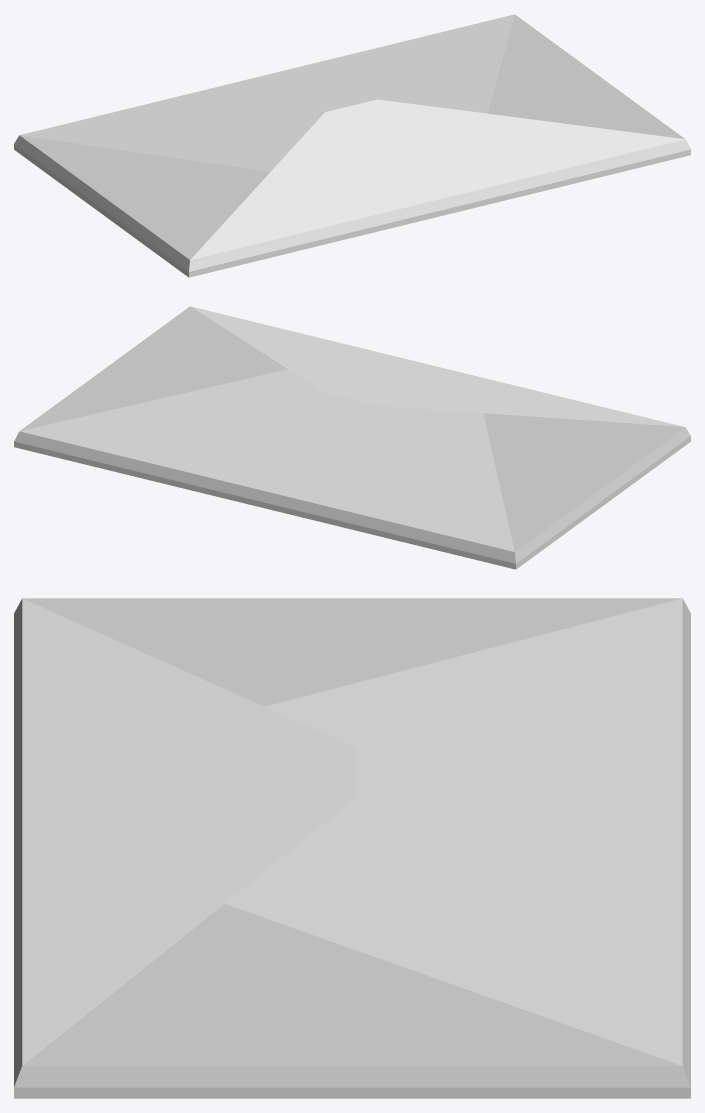
Rendered from letter01.gltf.
3 renders of one model, top to bottom at view 1: azimuth 30°, elevation 25°; view 2: azimuth 150°, elevation 25°; view 3: azimuth 270°, elevation 25°, orthographic. The views are drawn at different scales.
Parts seen in each view (by area): view 1: Cube; view 2: Cube; view 3: Cube.
Part boxes in pixels (box(x1,y1,x2,y2)): Cube: box(14, 14, 690, 277); Cube: box(14, 306, 690, 569); Cube: box(14, 598, 690, 1098).
Bounding box in the file's own units: 0.1264 × 0.012 × 0.0763.
Materials: 1 (1 with a texture image).
